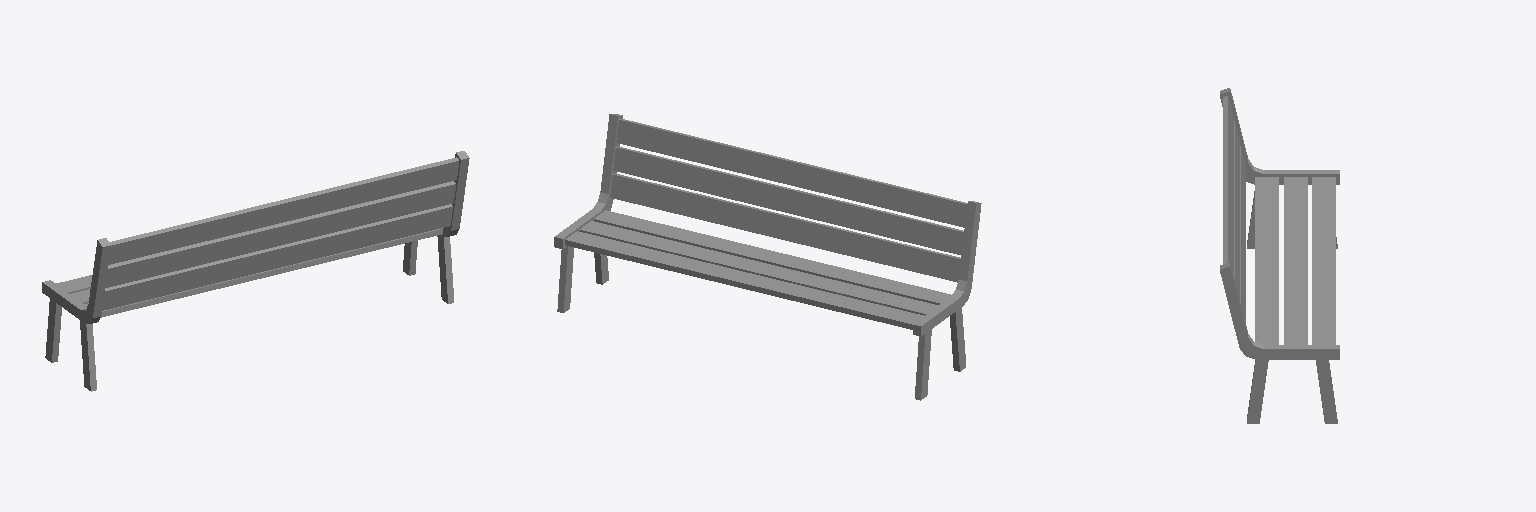
The model's file is Bench.obj.
3 views of the same model, side by side, from view 1: azimuth 30°, elevation 25°; view 2: azimuth 150°, elevation 25°; view 3: azimuth 270°, elevation 25° (orthographic).
Parts seen in each view (by area): view 1: Cube; view 2: Cube; view 3: Cube.
Part boxes in pixels (bbox=[...]): Cube: bbox=[42, 151, 469, 391]; Cube: bbox=[554, 114, 981, 400]; Cube: bbox=[1220, 88, 1339, 423].
Bounding box in the file's own units: 4.19 × 1.73 × 1.2.